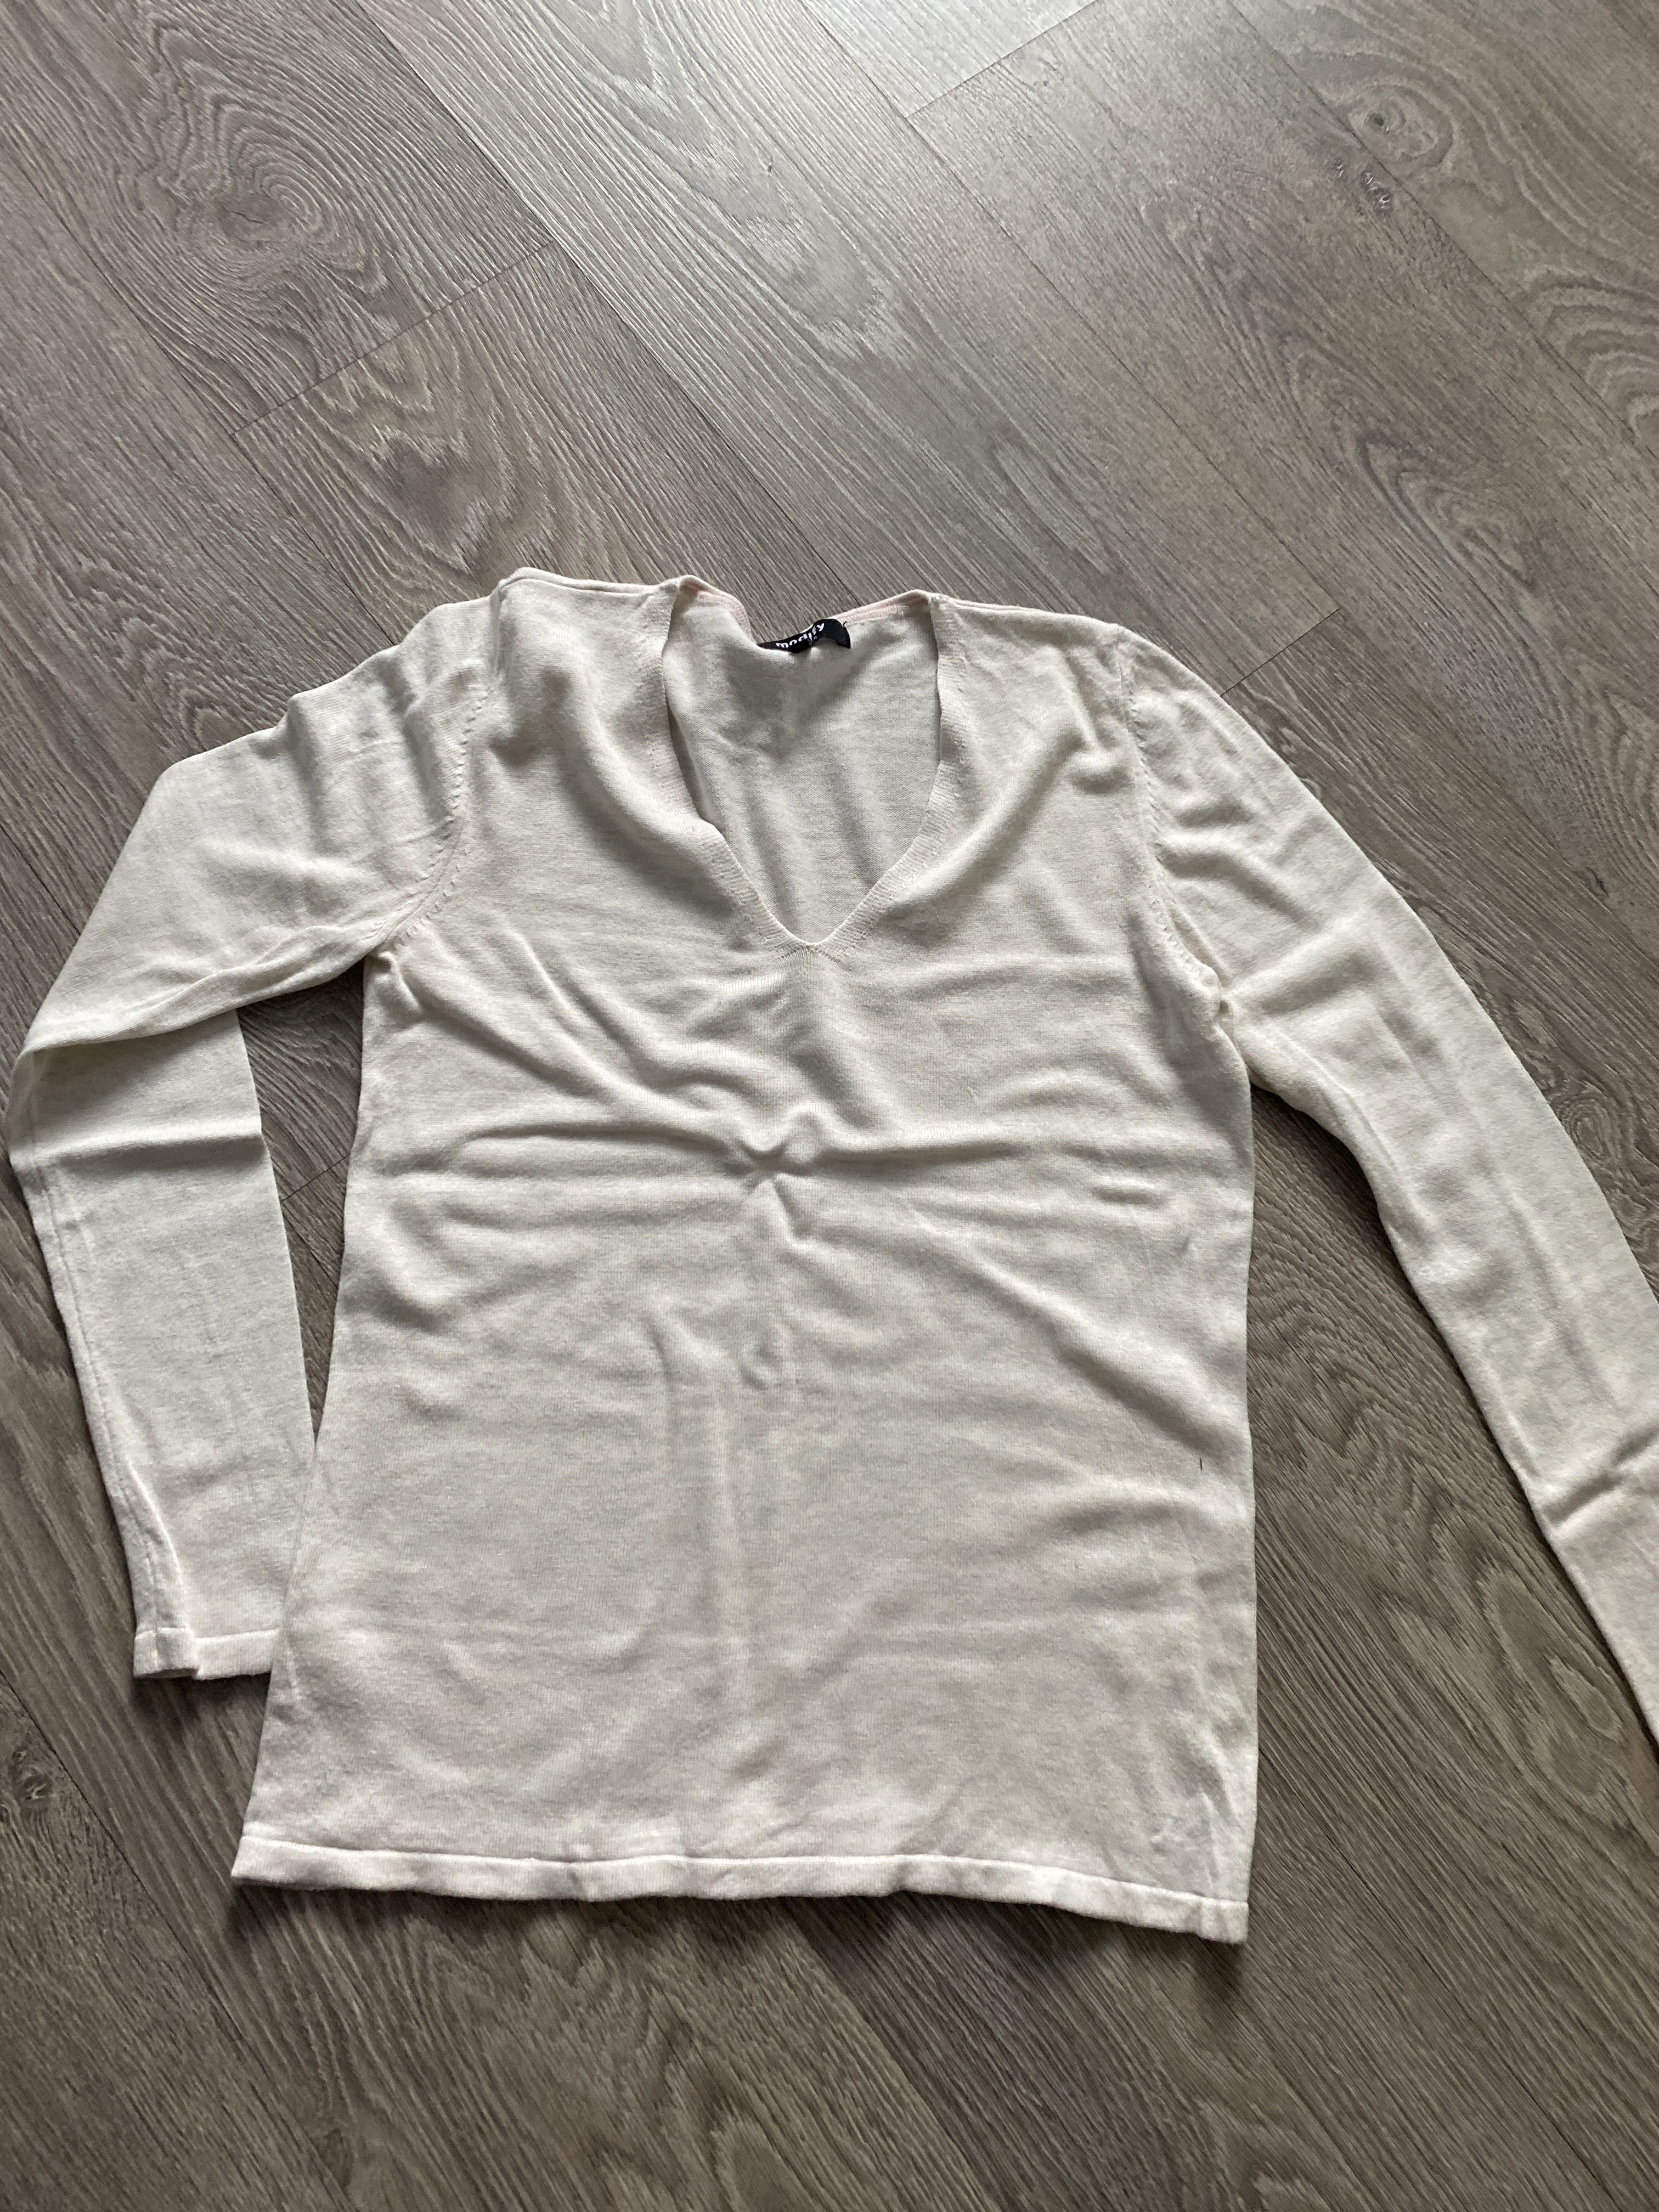clothes: (14, 552, 1659, 1959)
